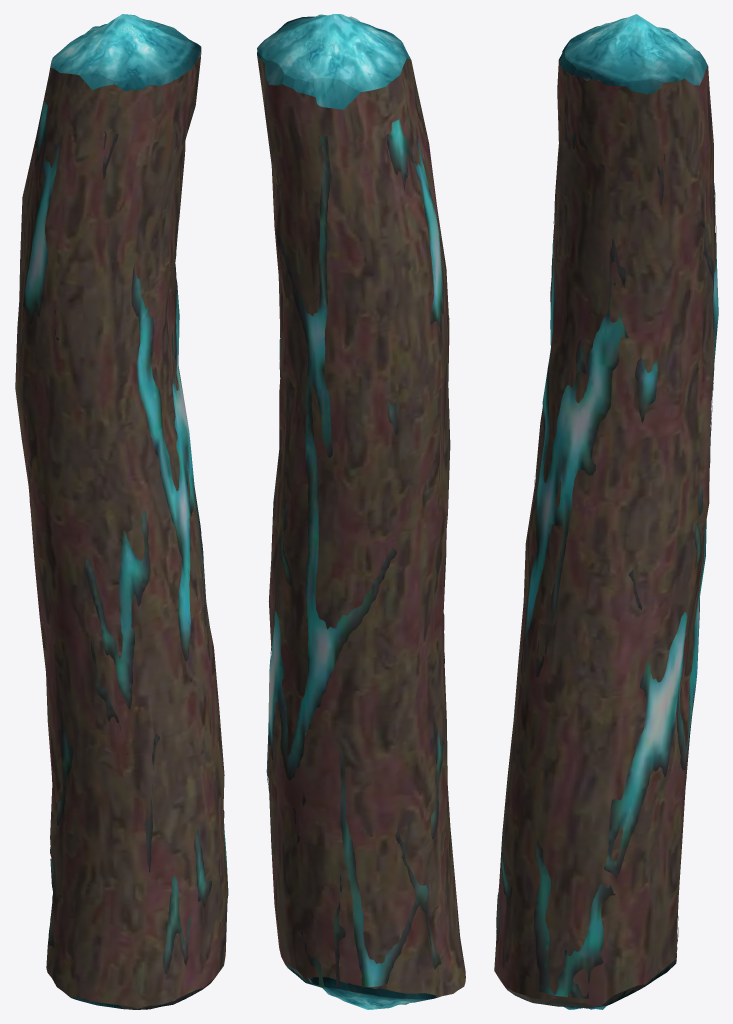
The picture shows the model from 3 angles, left to right: view 1: azimuth 30°, elevation 25°; view 2: azimuth 150°, elevation 25°; view 3: azimuth 270°, elevation 25°; orthographic projection. The views are drawn at different scales.
Parts seen in each view (by area): view 1: SM_MagicTree_01_half_mid_LOD0; view 2: SM_MagicTree_01_half_mid_LOD0; view 3: SM_MagicTree_01_half_mid_LOD0.
Boxes of the visible parts, left/top/right/bottom form: SM_MagicTree_01_half_mid_LOD0: left=15, top=14, right=228, bottom=1009; SM_MagicTree_01_half_mid_LOD0: left=257, top=14, right=465, bottom=1009; SM_MagicTree_01_half_mid_LOD0: left=494, top=14, right=718, bottom=1009.
Bounding box in the file's own units: 0.8282 × 4.42 × 0.8991.
1 material, 1 textured.
